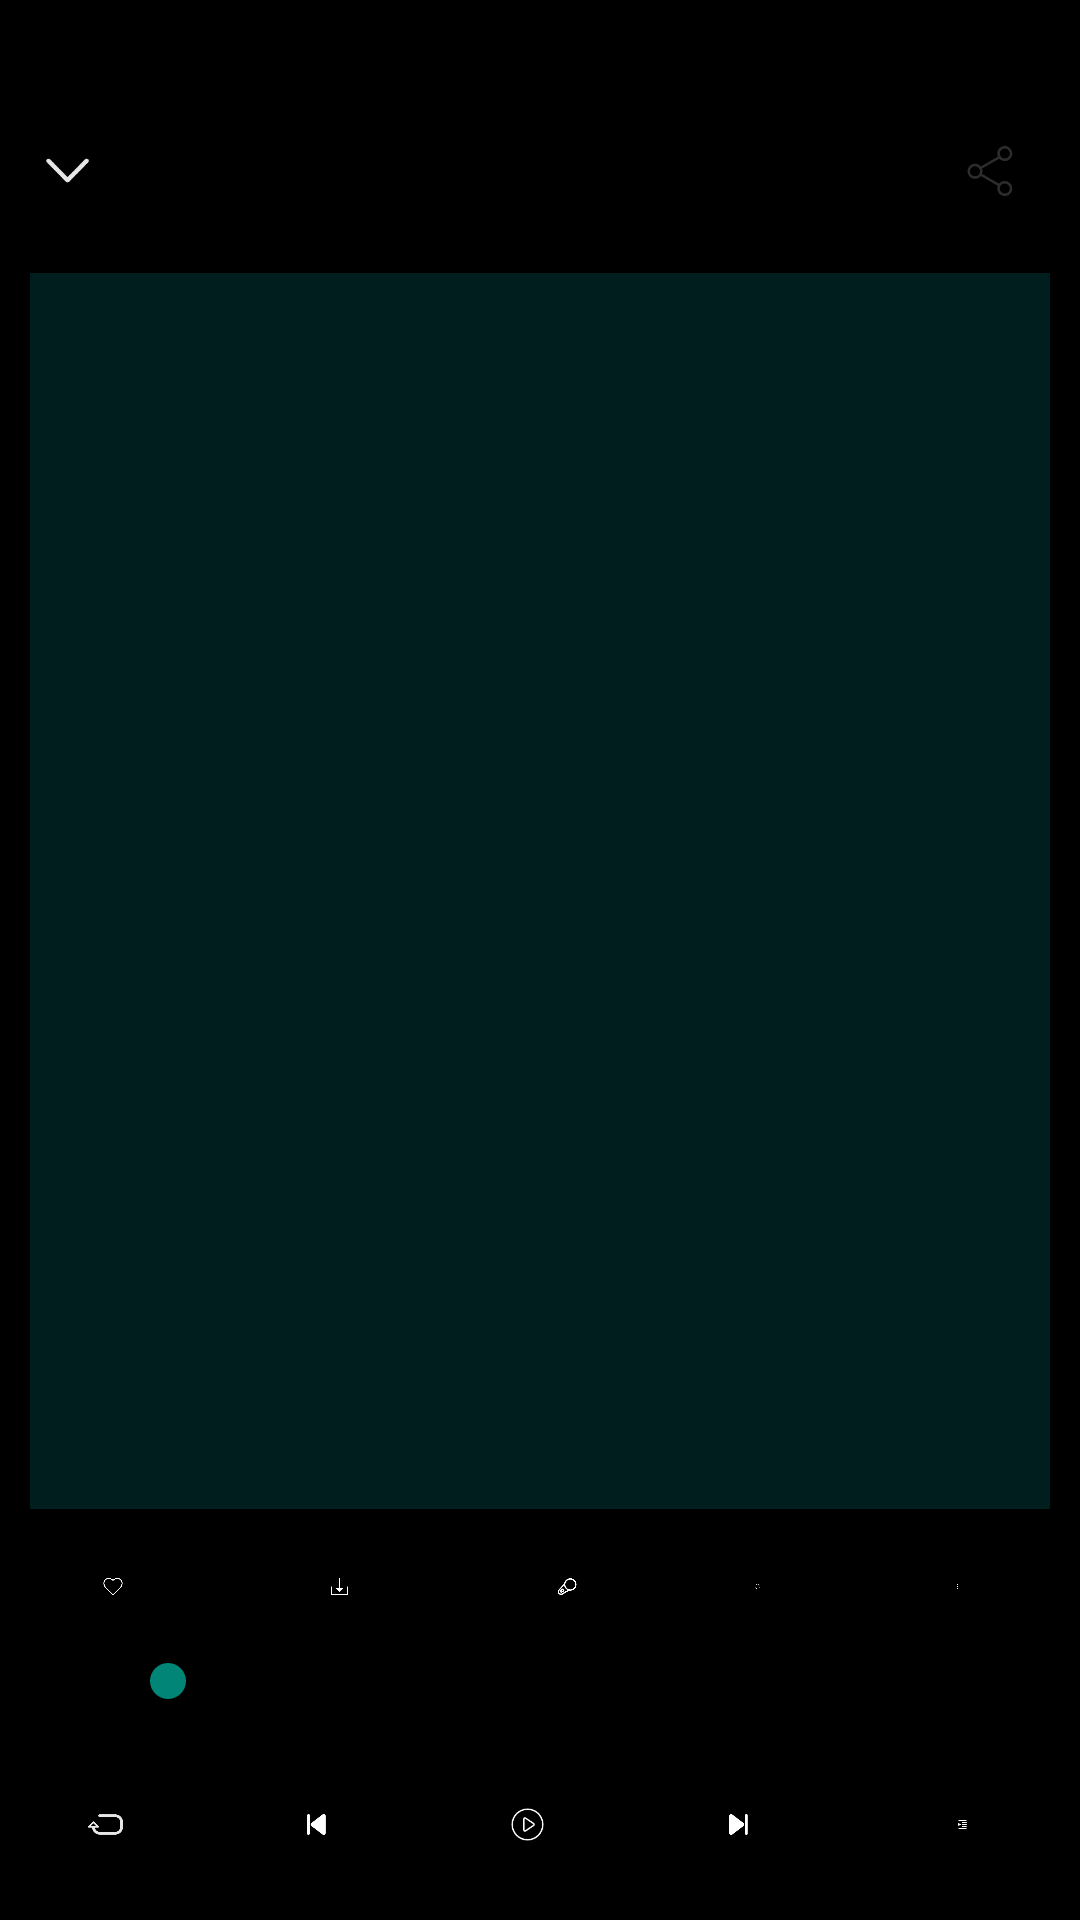

Where icons sit on this 1080w x 1920h app screen, as (x1, y1, x2, y2):
pulldown: (46, 158, 89, 183)
share: (968, 146, 1012, 196)
